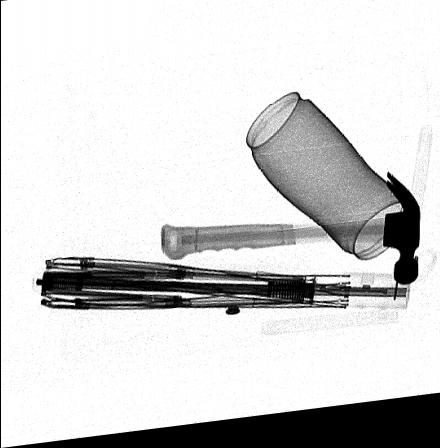Hammer: (160, 182, 420, 296)
